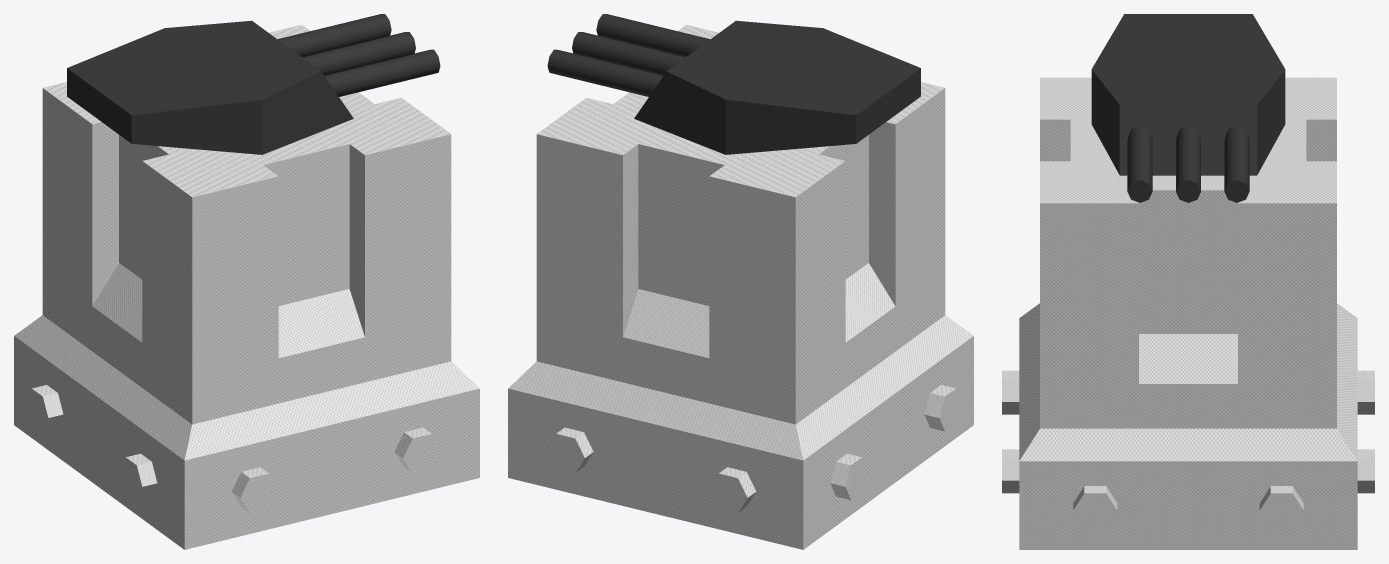
The model's file is Hardpoint_Cannon.dae.
3 renders of one model, left to right at view 1: azimuth 30°, elevation 25°; view 2: azimuth 150°, elevation 25°; view 3: azimuth 270°, elevation 25°, orthographic.
Visible parts, largest first — view 1: Hardpoint, Turret, Turret_Barrels; view 2: Hardpoint, Turret, Turret_Barrels; view 3: Hardpoint, Turret, Turret_Barrels.
Part boxes in pixels (bbox=[...]): Hardpoint: bbox=[14, 24, 479, 549]; Turret: bbox=[67, 20, 353, 154]; Turret_Barrels: bbox=[278, 14, 440, 96]; Hardpoint: bbox=[508, 24, 973, 549]; Turret: bbox=[634, 20, 920, 154]; Turret_Barrels: bbox=[547, 14, 709, 96]; Hardpoint: bbox=[1002, 77, 1374, 549]; Turret: bbox=[1091, 14, 1285, 175]; Turret_Barrels: bbox=[1127, 125, 1249, 202].
Bounding box in the file's own units: 2 × 2.32 × 2.
